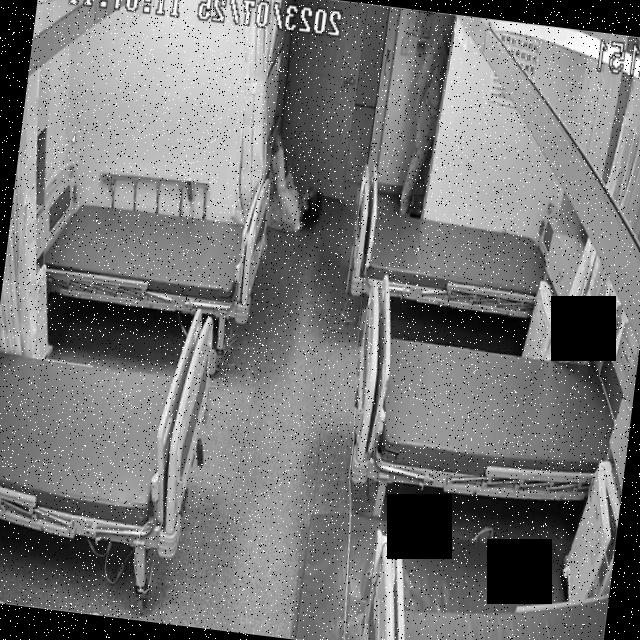bed: (0, 285, 220, 555), (344, 323, 624, 506), (25, 178, 272, 324), (349, 197, 549, 317)
fall: (258, 124, 329, 240)
patient: (394, 9, 452, 218), (257, 122, 330, 241)
